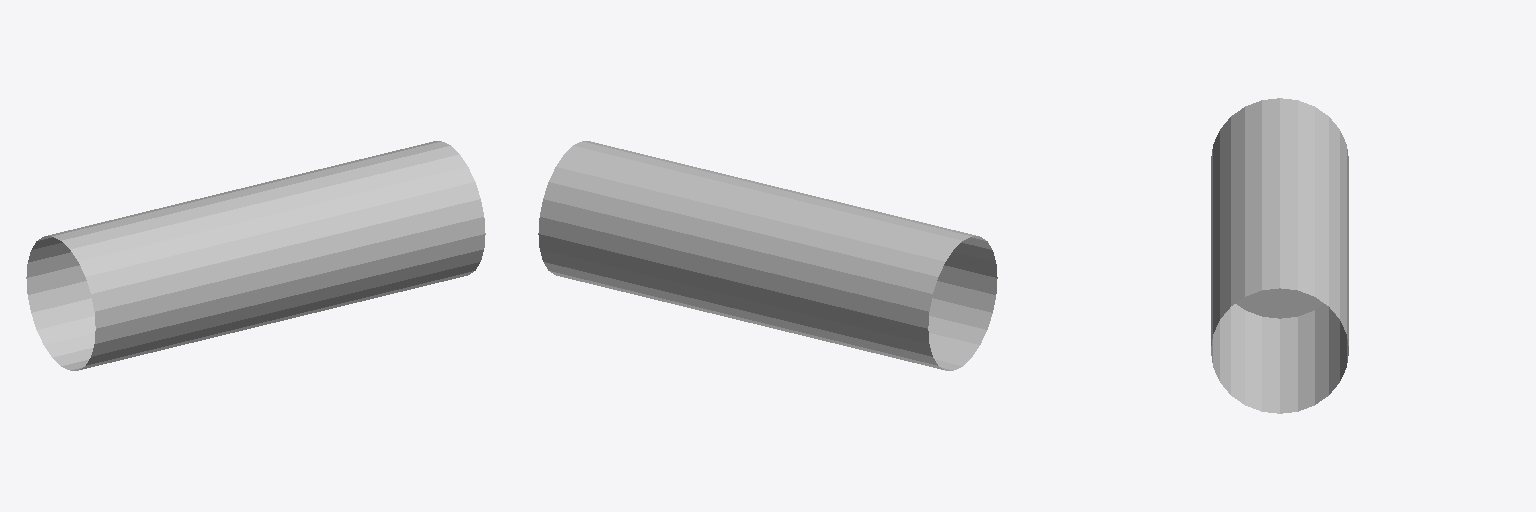
File: original-100.obj
The picture shows the model from 3 angles: view 1: azimuth 30°, elevation 25°; view 2: azimuth 150°, elevation 25°; view 3: azimuth 270°, elevation 25°; orthographic projection.
Visible parts, largest first — view 1: #ID645; view 2: #ID645; view 3: #ID645.
Boxes of the visible parts, x1,y1,x2,y2 form: #ID645: [26, 141, 485, 370]; #ID645: [538, 141, 997, 370]; #ID645: [1211, 98, 1348, 413].
Size of the model in its own units: 0.0196 by 0.006 by 0.006.